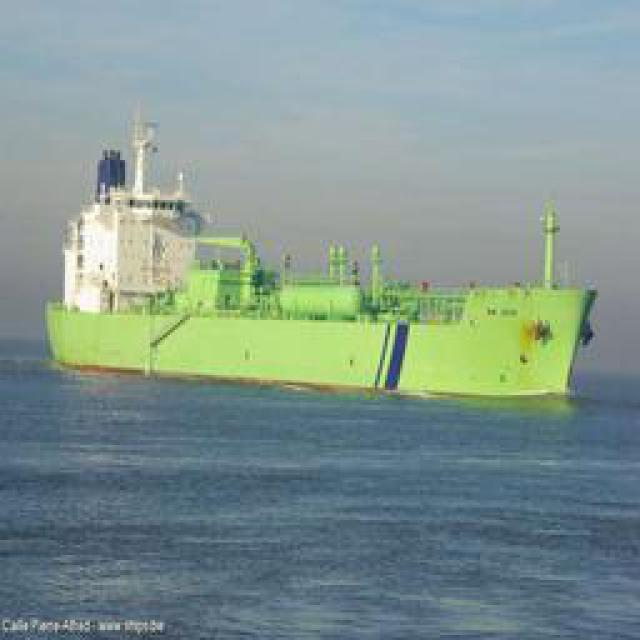Ship: (55, 106, 598, 394)
